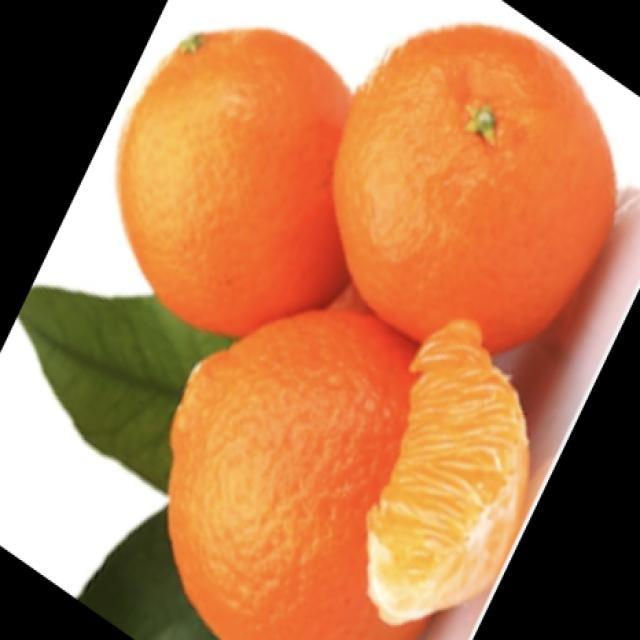Orange: (331, 22, 617, 354), (166, 307, 431, 639), (115, 26, 352, 338), (364, 317, 531, 625)
